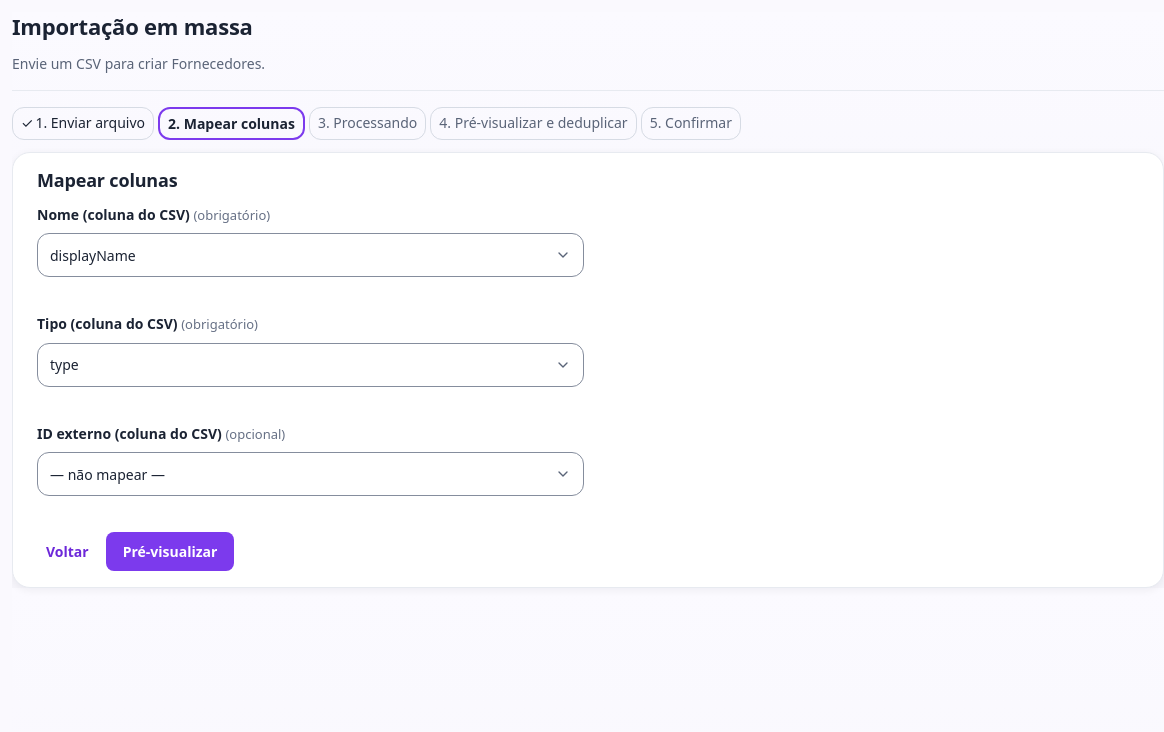
Scenario: ImportWizard — mapping step (AWAITING_MAPPING only - see the UPLOADED-safety describe above) › a mapping conflict (two fields mapped to the same header) is flagged inline and blocks Pré-visualizar
Expected: the button "Pré-visualizar" is enabled, x1=106 y1=532 x2=234 y2=572
Select "displayName" in the dropdown labelled "Tipo (coluna do CSV) (obrigatório)" at (310, 365), box x1=37 y1=343 x2=584 y2=387
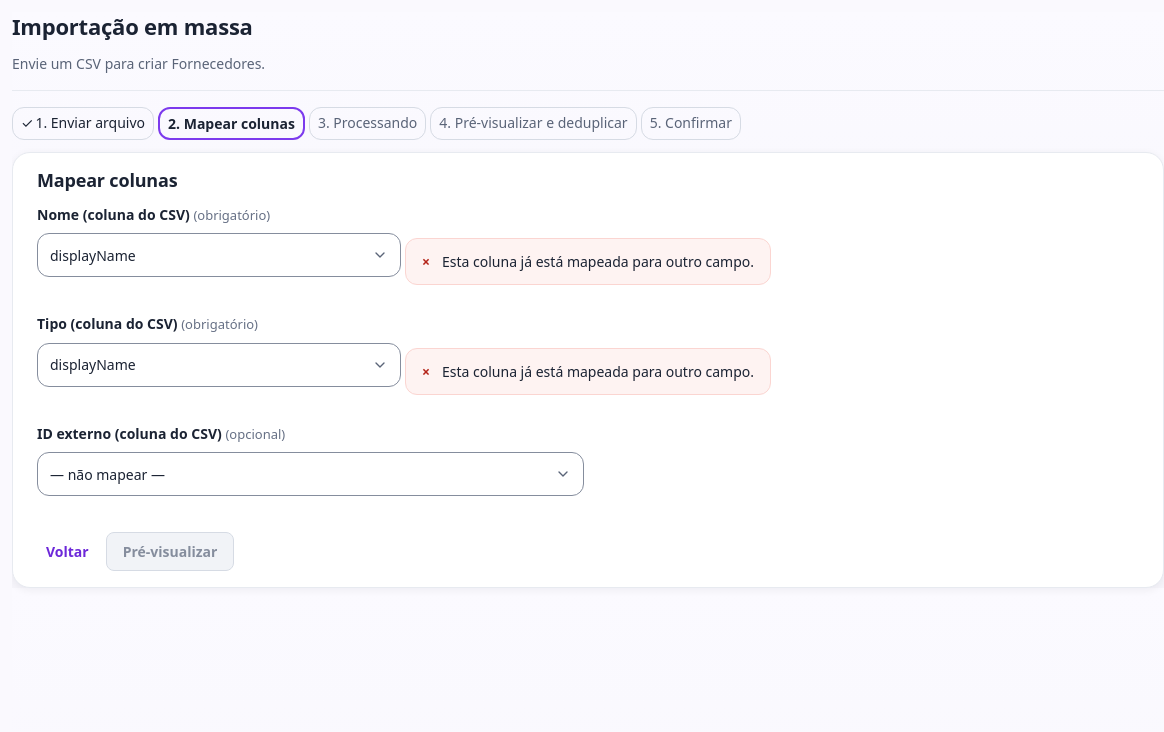
Now the text "Esta coluna já está mapeada para outro campo." is shown 2 times, box x1=442 y1=252 x2=754 y2=272; x1=442 y1=361 x2=754 y2=382
Now the button "Pré-visualizar" is disabled, box x1=106 y1=532 x2=234 y2=572
